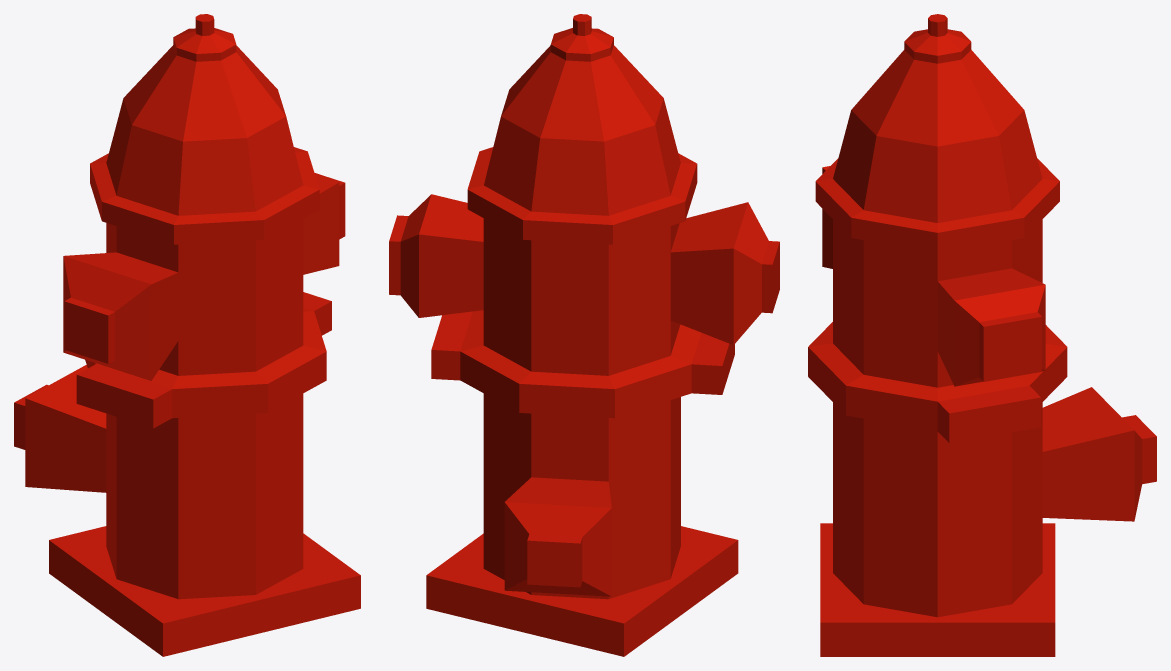
The model's file is hydrant.fbx.
The picture shows the model from 3 angles, left to right: view 1: azimuth 30°, elevation 25°; view 2: azimuth 150°, elevation 25°; view 3: azimuth 270°, elevation 25°; orthographic projection. The views are drawn at different scales.
Parts seen in each view (by area): view 1: Cube; view 2: Cube; view 3: Cube.
Part boxes in pixels (x1,y1,x2,y2): Cube: [14, 14, 360, 656]; Cube: [389, 14, 779, 656]; Cube: [808, 14, 1156, 656].
Size of the model in its own units: 54.73 by 91.34 by 49.
